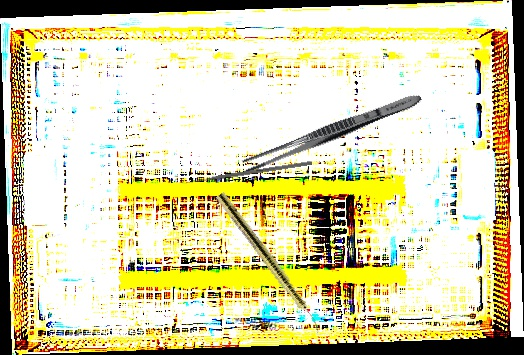Dressing Forceps: (240, 88, 424, 177)
Handpiece: (213, 191, 328, 336)
Pusher: (181, 160, 313, 186)
